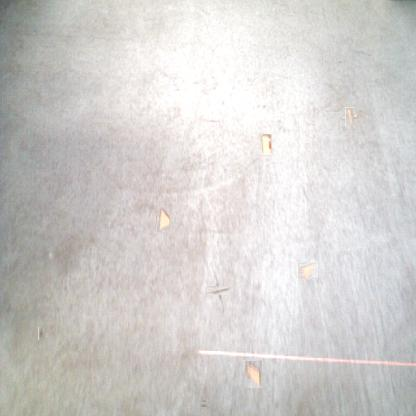dirty: (244, 360, 262, 388), (156, 206, 170, 232), (299, 260, 318, 278), (260, 133, 272, 155), (342, 109, 356, 124)
mark: (211, 281, 227, 299), (38, 326, 45, 340), (201, 400, 209, 408)
